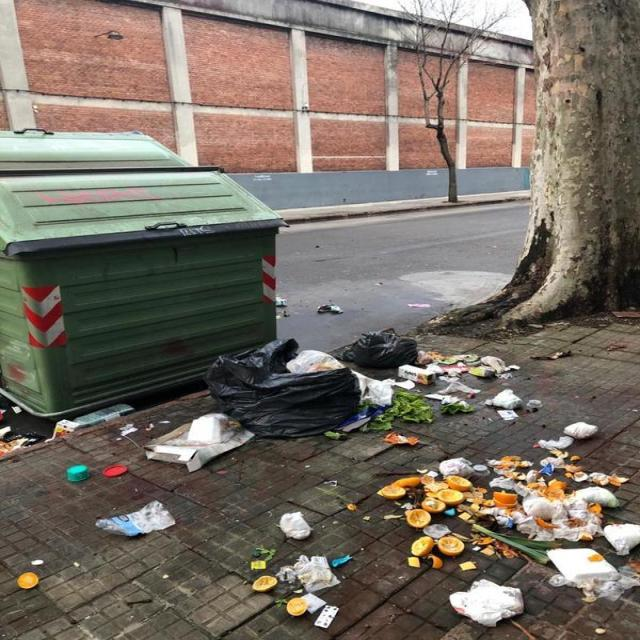garbage: (191, 292, 639, 640), (0, 356, 481, 640)
